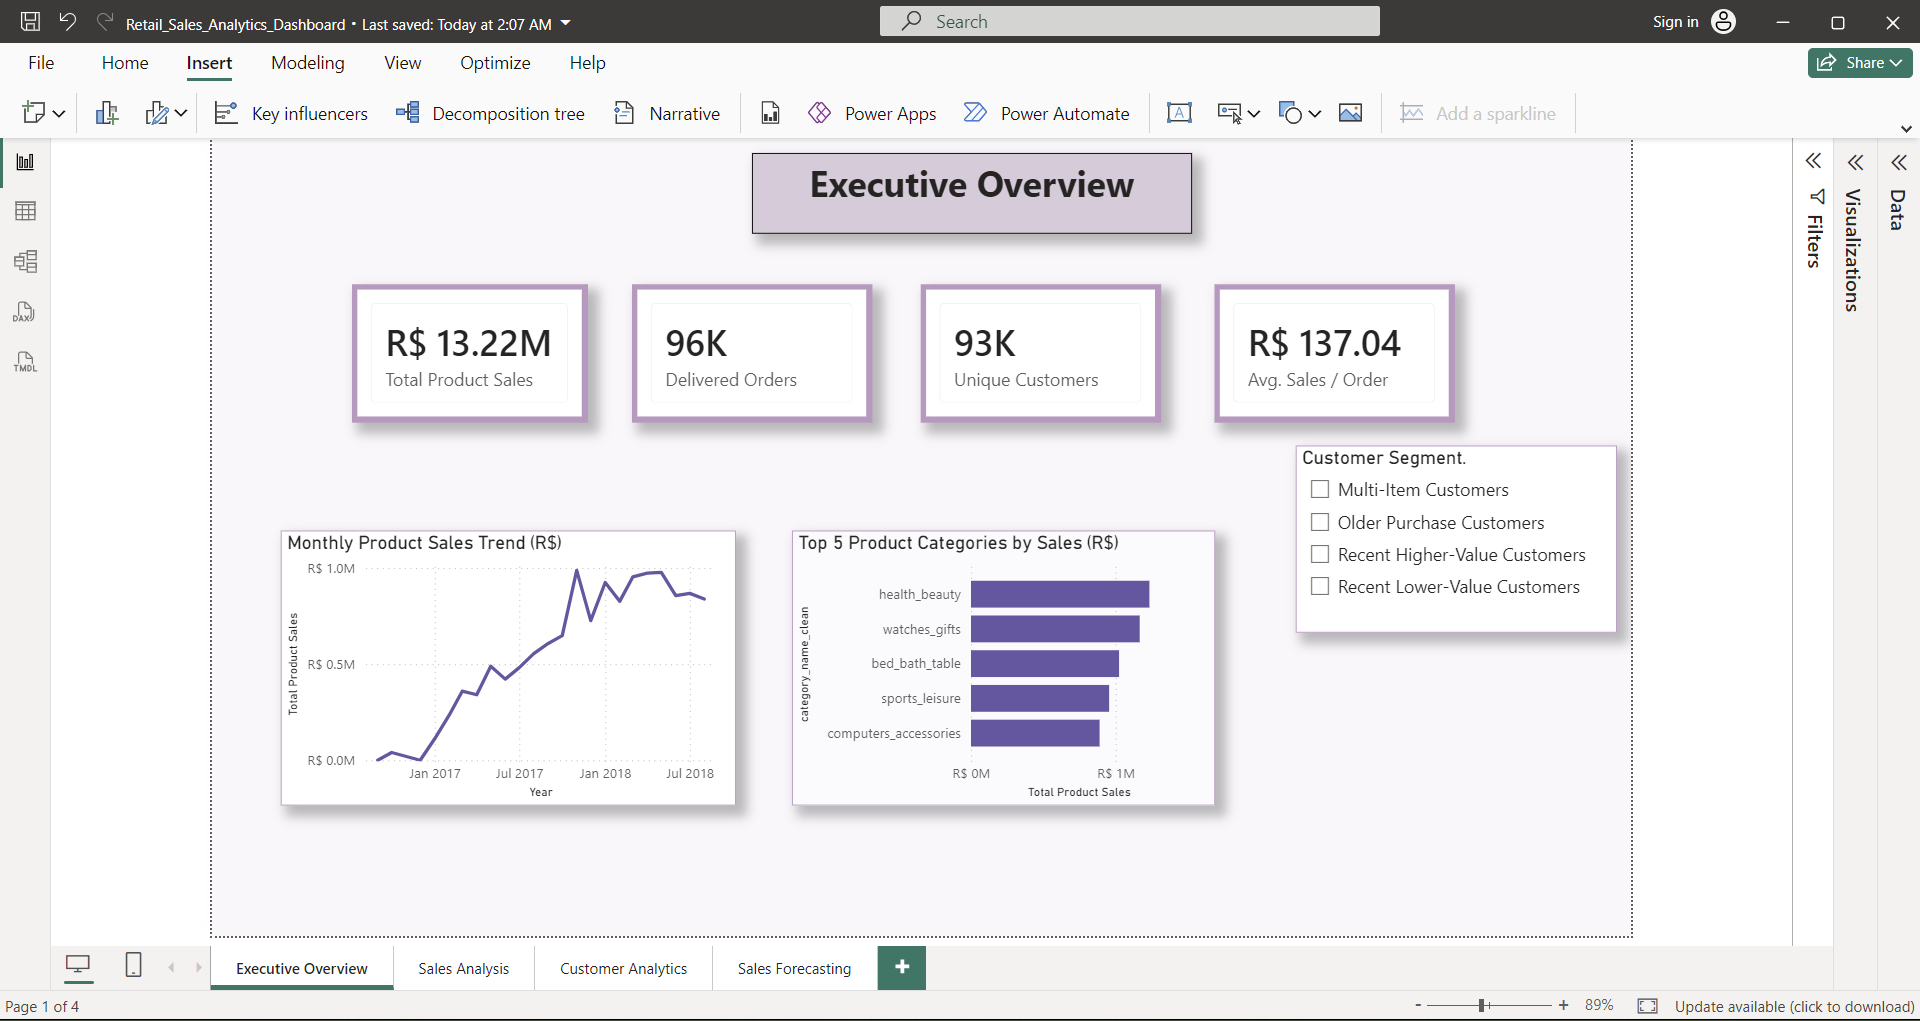

The dashboard page shown, as its layout file describes it:
{"tool":"powerbi","page":{"name":"Executive Overview","canvas":[1280,720],"ordinal":0},"visuals":[{"type":"cardVisual","fields":{"Data":["transactions_clean.Total Product Sales"]},"box":[126.2,131.7,212.7,124.9],"z":0},{"type":"cardVisual","fields":{"Data":["transactions_clean.Delivered Orders"]},"box":[378.7,131.7,216.8,124.9],"z":1000},{"type":"cardVisual","fields":{"Data":["transactions_clean.Unique Customers"]},"box":[639.5,131.7,216.8,124.9],"z":2000},{"type":"cardVisual","fields":{"Data":["transactions_clean.Average Sales per Order"]},"box":[904.3,131.7,216.8,124.9],"z":3000},{"type":"textbox","box":[487.1,13.7,396.6,72.7],"z":4000},{"type":"lineChart","title":"Monthly Product Sales Trend (R$)","fields":{"Y":["transactions_clean.Total Product Sales"],"Category":["transactions_clean.purchase_date.Variation.Date Hierarchy.Year","transactions_clean.purchase_date.Variation.Date Hierarchy.Month"]},"box":[61.7,354,410.3,248.4],"z":5000},{"type":"clusteredBarChart","title":"Top 5 Product Categories by Sales (R$)","fields":{"Category":["transactions_clean.category_name_clean"],"Y":["transactions_clean.Total Product Sales"]},"box":[522.8,354,381.5,248.4],"z":6000},{"type":"slicer","title":"Customer Segment.","fields":{"Values":["customer_segments.segment"]},"box":[977,277.2,289.5,168.8],"z":7000}]}

Visuals, with their boxes on the page's 1280x720 design canvas (x1, y1, x2, y2). These are canvas units, not pixel positions in the 1920x1021 screenshot, which may show the page scaled, cropped or inside an application window:
cardVisual - transactions_clean.Total Product Sales: 126 132 339 257
cardVisual - transactions_clean.Delivered Orders: 379 132 596 257
cardVisual - transactions_clean.Unique Customers: 640 132 856 257
cardVisual - transactions_clean.Average Sales per Order: 904 132 1121 257
textbox: 487 14 884 86
"Monthly Product Sales Trend (R$)" lineChart: 62 354 472 602
"Top 5 Product Categories by Sales (R$)" clusteredBarChart: 523 354 904 602
"Customer Segment." slicer: 977 277 1266 446
